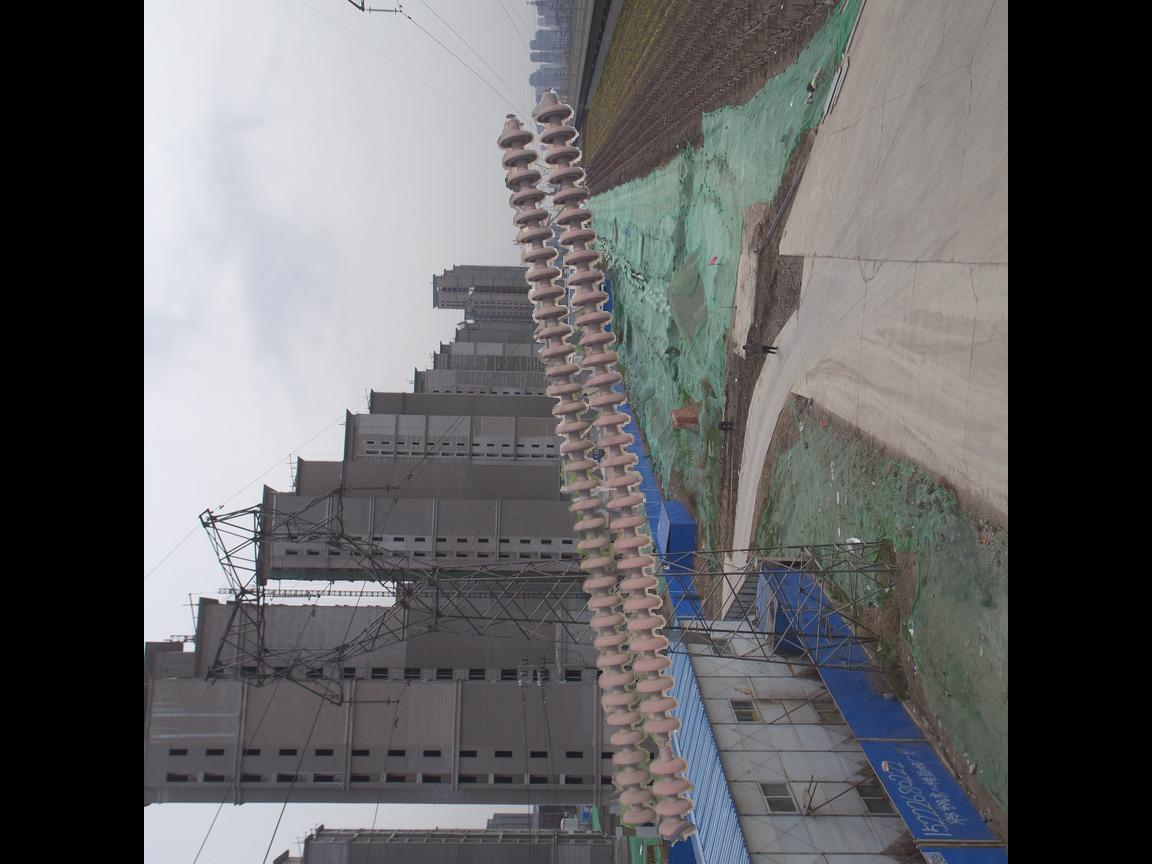insulator: (493, 92, 706, 847)
insulator_stringdrop: (638, 714, 691, 778)
